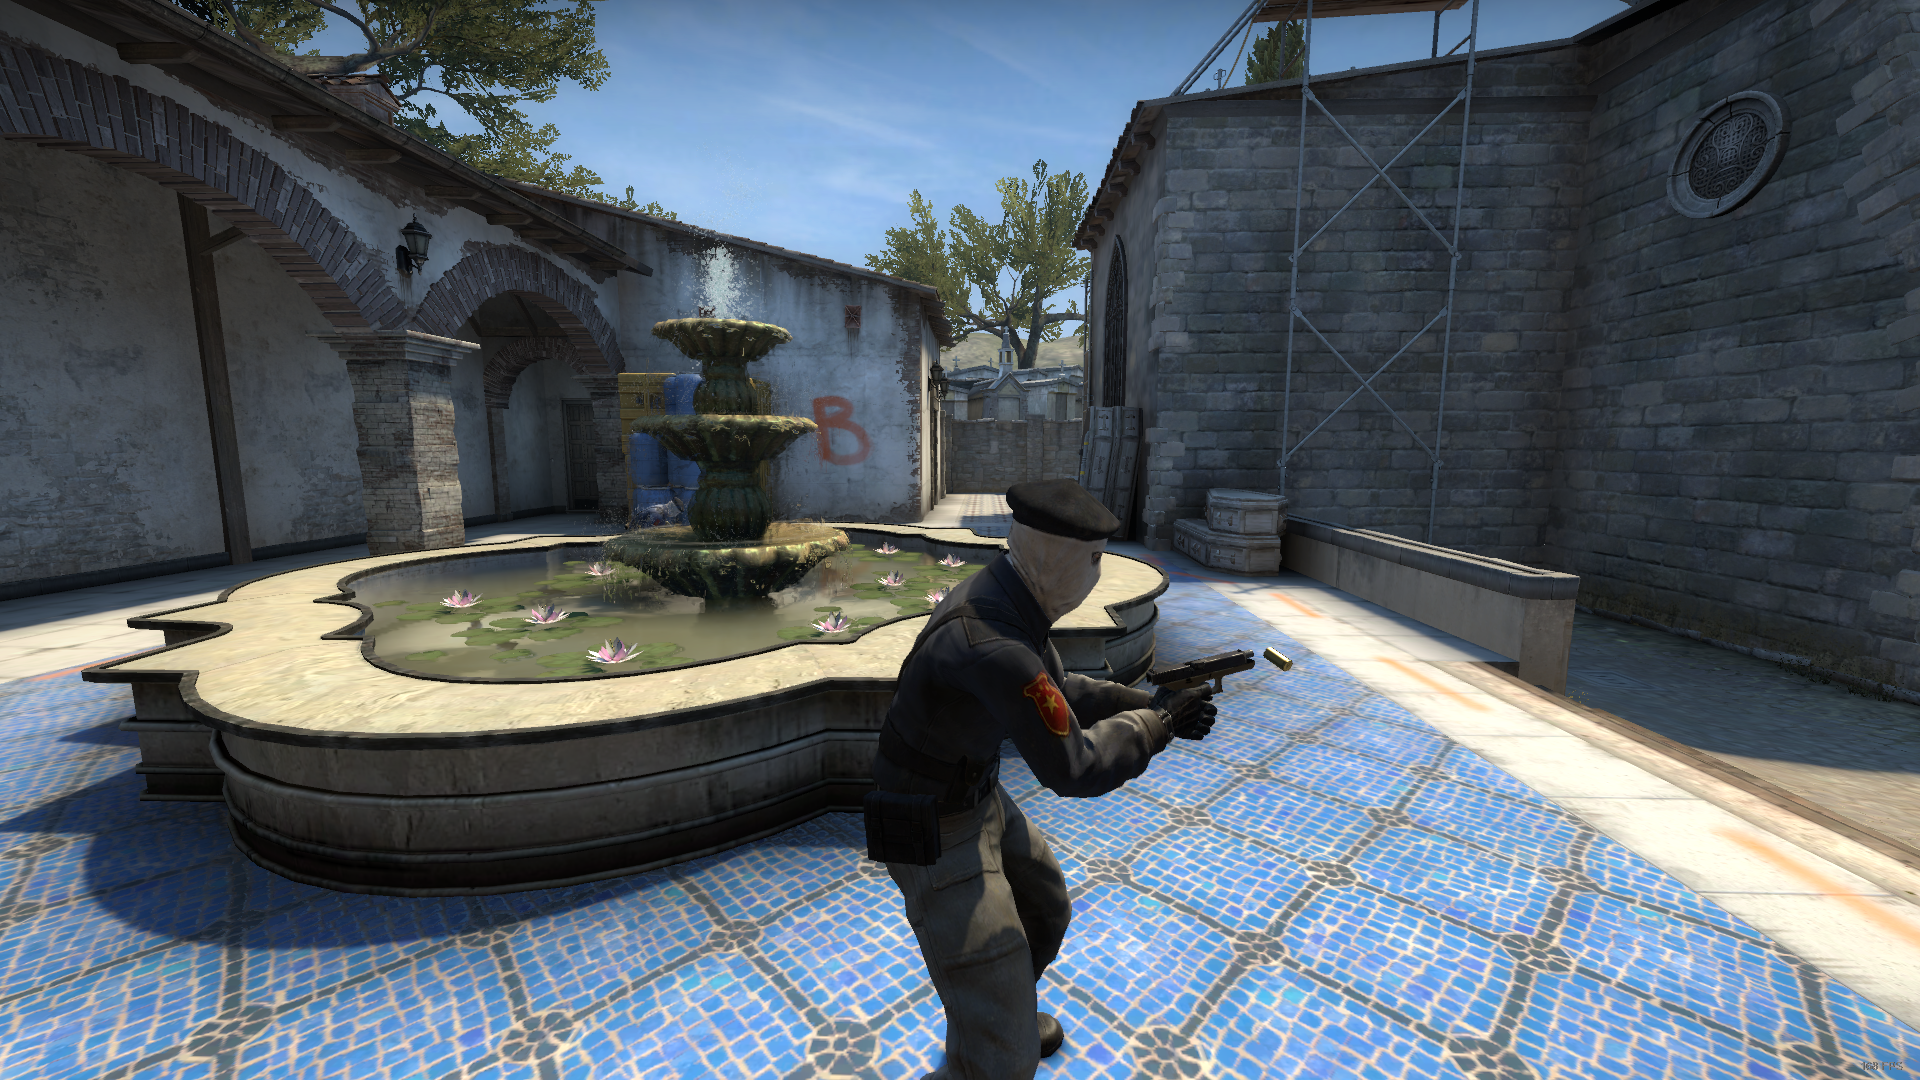t: (823, 435, 1218, 1080)
